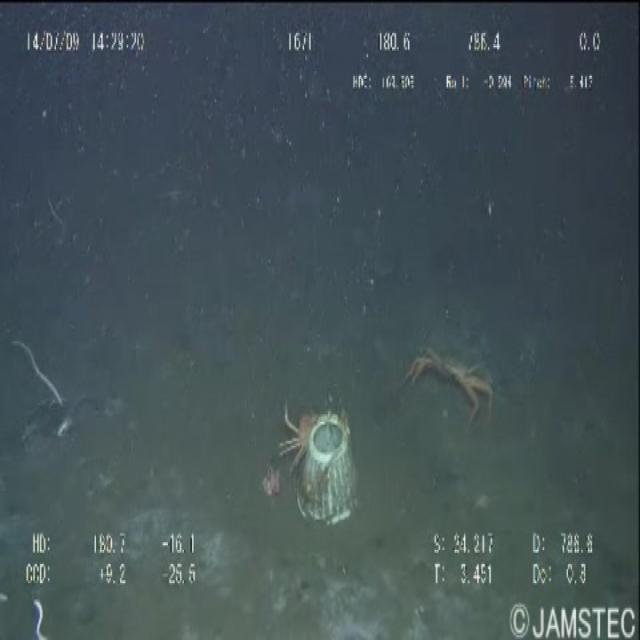Cutlery: (284, 407, 366, 546)
